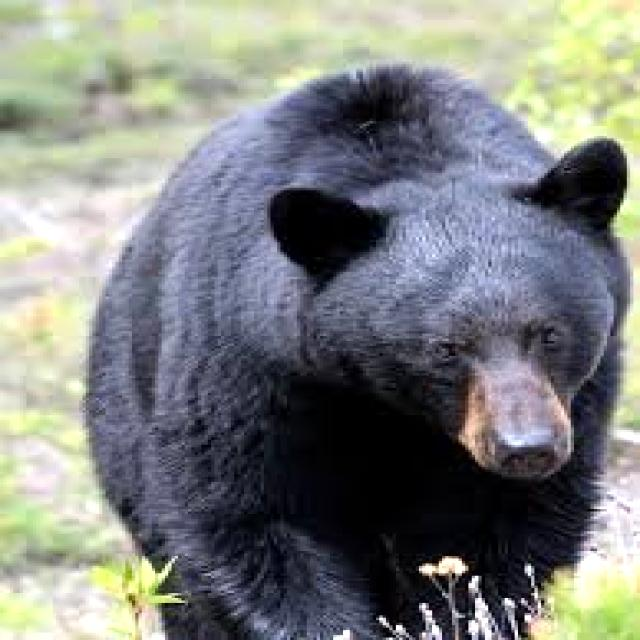bear: (66, 29, 623, 640)
